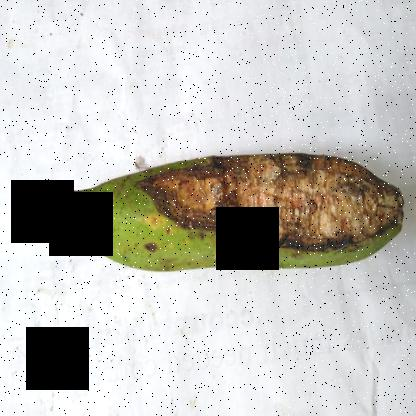rotten: (123, 122, 415, 265)
